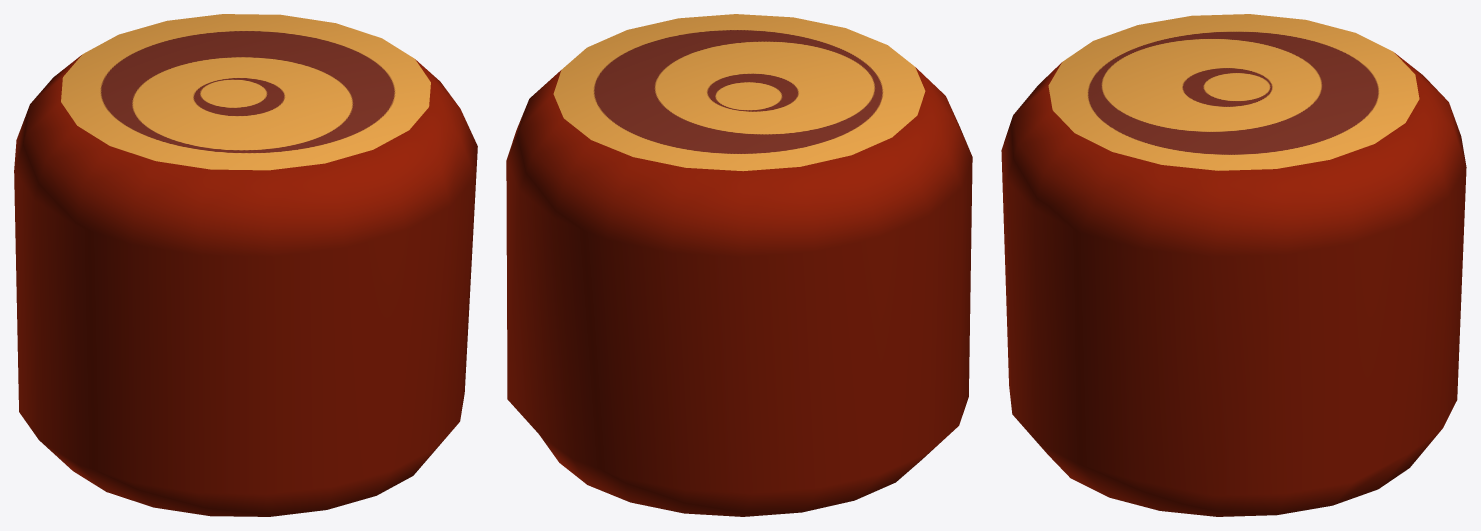
Rendered from LogMiniLow.fbx.
3 views of the same model, side by side, from view 1: azimuth 30°, elevation 25°; view 2: azimuth 150°, elevation 25°; view 3: azimuth 270°, elevation 25° (orthographic).
Visible parts, largest first — view 1: Logs; view 2: Logs; view 3: Logs.
Boxes of the visible parts, bbox=[...] form: Logs: bbox=[14, 14, 477, 516]; Logs: bbox=[506, 14, 972, 516]; Logs: bbox=[1001, 14, 1466, 516].
Bounding box in the file's own units: 0.9822 × 0.8021 × 0.9822.
